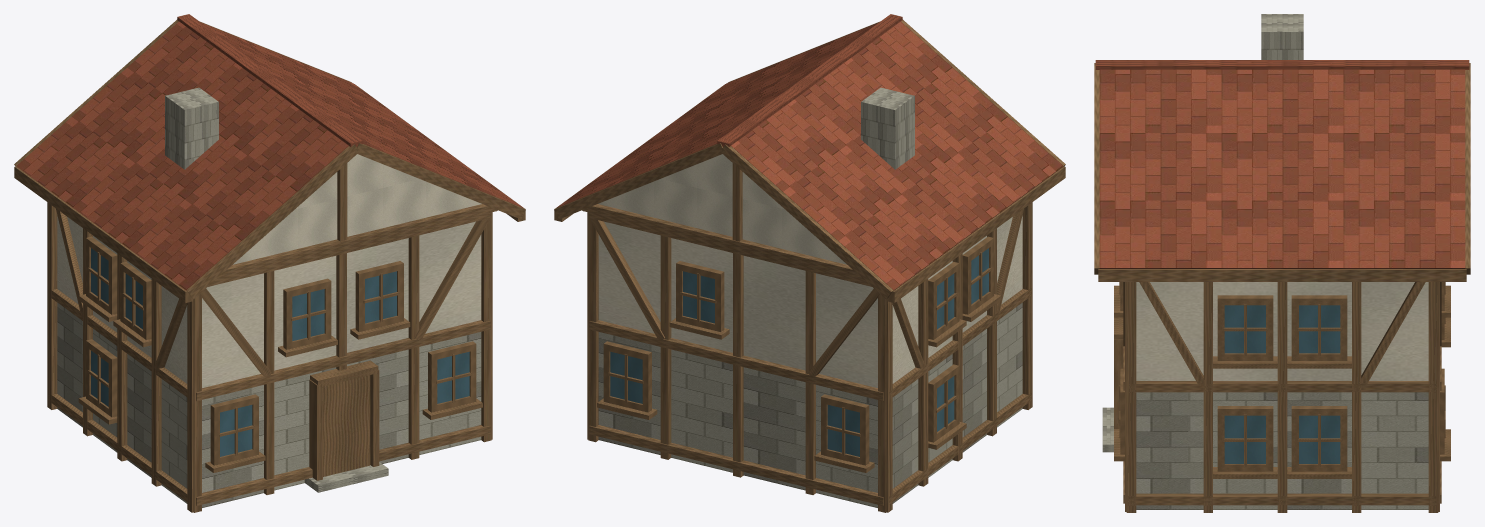
3 renders of one model, left to right at view 1: azimuth 30°, elevation 25°; view 2: azimuth 150°, elevation 25°; view 3: azimuth 270°, elevation 25°, orthographic. The views are drawn at different scales.
Parts seen in each view (by area): view 1: house-wood, house-roof, house-plaster, house-stone, house-glass; view 2: house-wood, house-roof, house-plaster, house-stone, house-glass; view 3: house-roof, house-wood, house-stone, house-plaster, house-glass.
Part boxes in pixels (<box>): house-wood: <box>14,19,525,512</box>; house-roof: <box>16,14,523,290</box>; house-plaster: <box>57,154,481,387</box>; house-stone: <box>57,87,481,507</box>; house-glass: <box>91,248,469,456</box>; house-wood: <box>554,19,1065,512</box>; house-roof: <box>556,14,1063,290</box>; house-plaster: <box>598,154,1022,387</box>; house-stone: <box>598,87,1022,507</box>; house-glass: <box>610,248,988,456</box>; house-roof: <box>1095,60,1469,268</box>; house-wood: <box>1094,63,1470,512</box>; house-stone: <box>1102,14,1428,509</box>; house-plaster: <box>1136,282,1428,380</box>; house-glass: <box>1224,305,1340,463</box>.
Size of the model in its own units: 7.98 by 7.72 by 7.1.
Materials: 5 (5 with a texture image).
